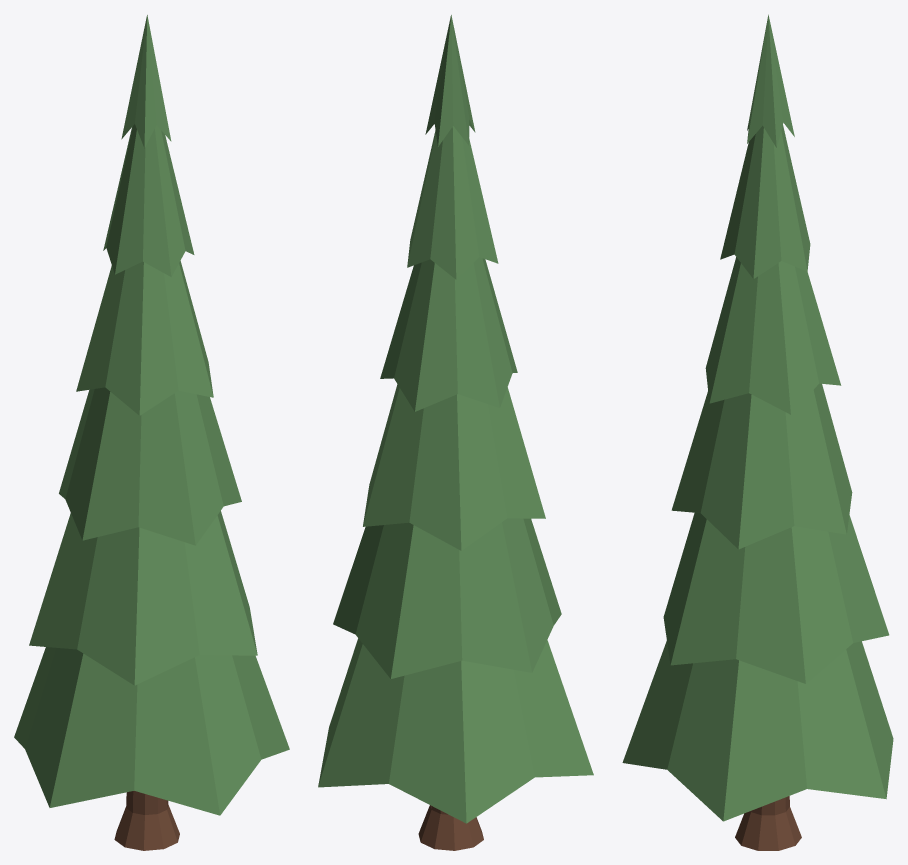
Rendered from SingleTree3.glb.
3 views of the same model, side by side, from view 1: azimuth 30°, elevation 25°; view 2: azimuth 150°, elevation 25°; view 3: azimuth 270°, elevation 25° (orthographic).
Visible parts, largest first — view 1: Tree1; view 2: Tree1; view 3: Tree1.
Boxes of the visible parts, x1,y1,x2,y2 form: Tree1: [14, 15, 289, 850]; Tree1: [318, 15, 593, 850]; Tree1: [622, 14, 893, 850].
Bounding box in the file's own units: 5.67 × 18.57 × 5.54.
